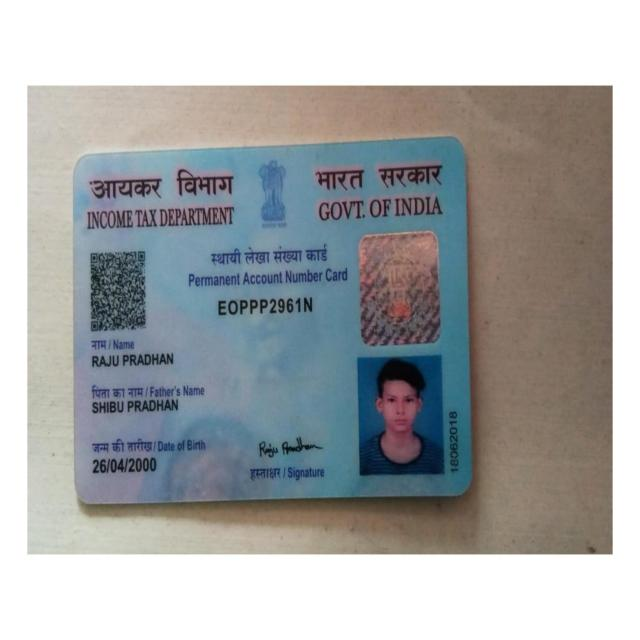pan_card: (75, 147, 469, 501)
